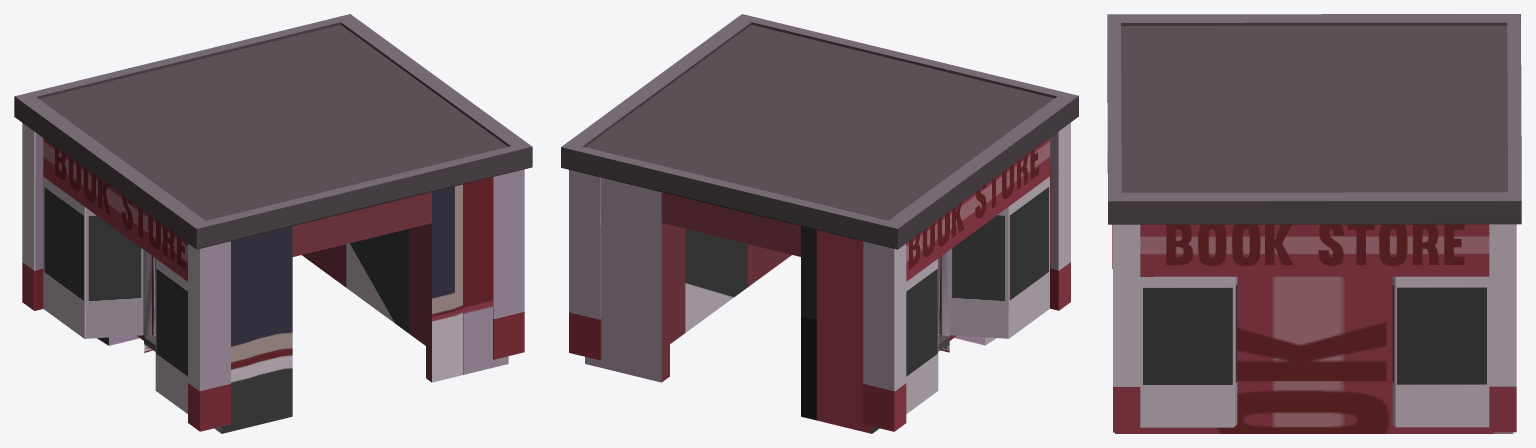
The model's file is carStore2.fbx.
3 renders of one model, left to right at view 1: azimuth 30°, elevation 25°; view 2: azimuth 150°, elevation 25°; view 3: azimuth 270°, elevation 25°, orthographic. The views are drawn at different scales.
Visible parts, largest first — view 1: store_small_drug; view 2: store_small_drug; view 3: store_small_drug.
Boxes of the visible parts, x1,y1,x2,y2 form: store_small_drug: (14,14,532,433); store_small_drug: (561,14,1078,433); store_small_drug: (1107,14,1521,433).
Size of the model in its own units: 875 by 534 by 819.
